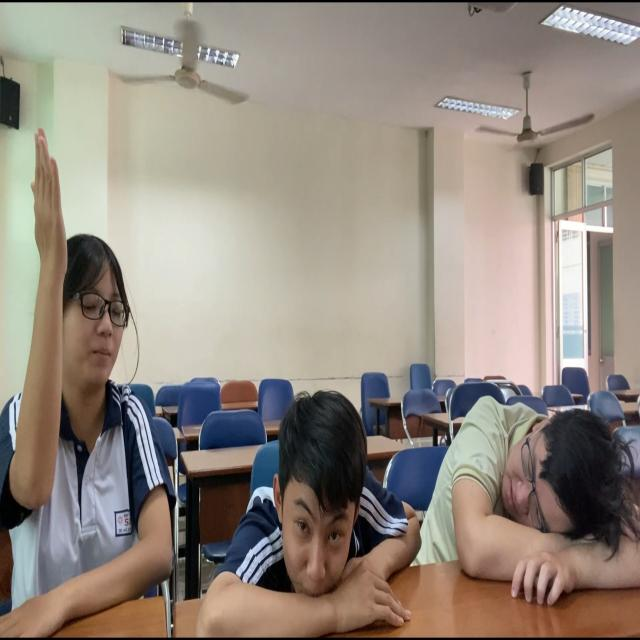raise_hand: (1, 116, 167, 640)
sleep: (216, 379, 433, 640), (433, 377, 639, 604)
